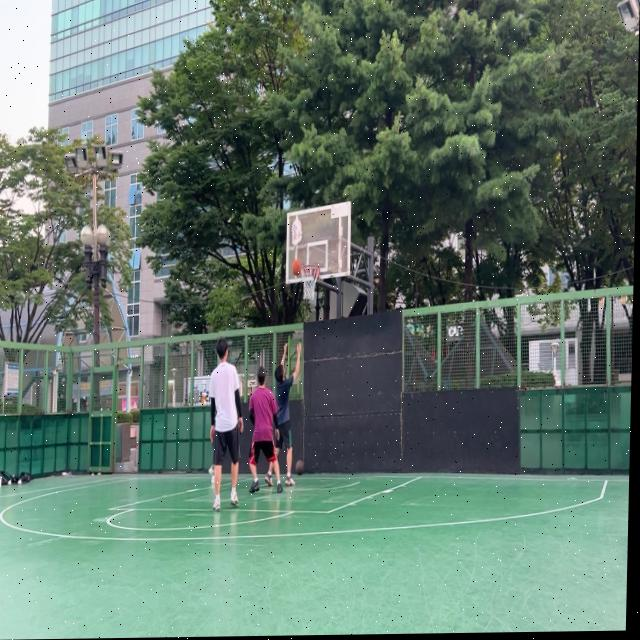basketball: (295, 460, 305, 476), (292, 259, 301, 275)
hoop: (300, 264, 321, 300)
